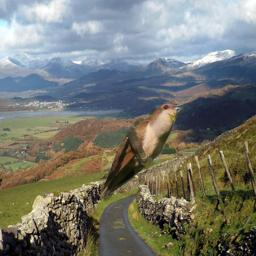Cuckoo: (97, 102, 184, 204)
